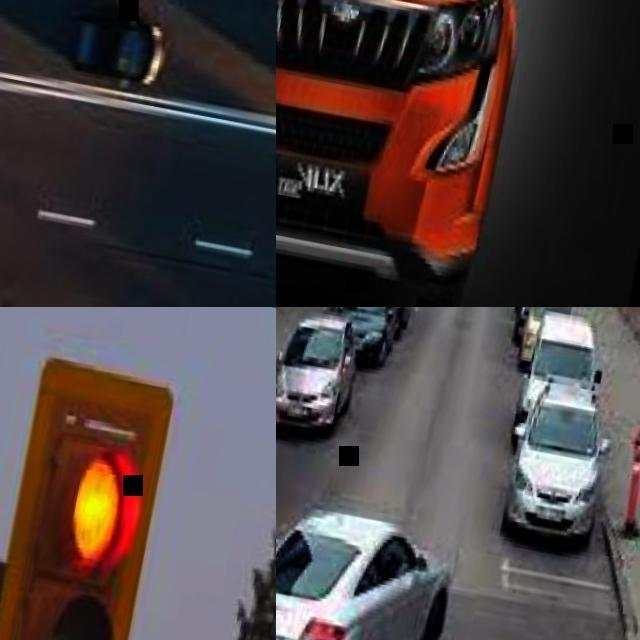car: (500, 306, 613, 550), (263, 499, 456, 638), (279, 313, 354, 437)
